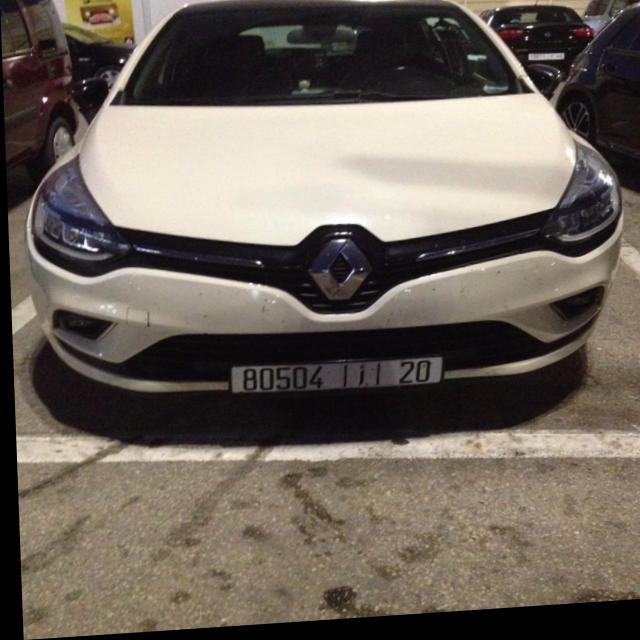License-Plate: (228, 363, 440, 396)
